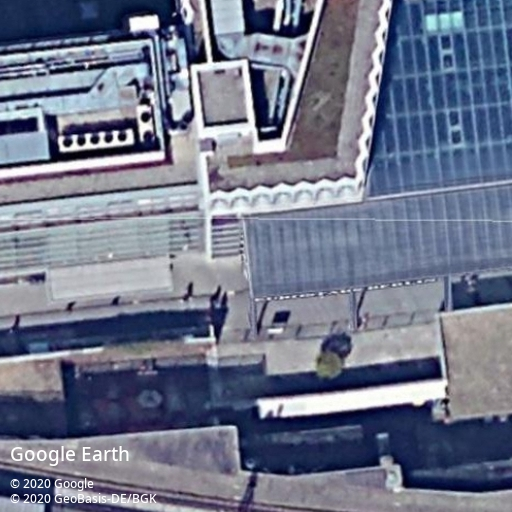Chiller: (55, 127, 136, 155), (135, 103, 158, 149)
